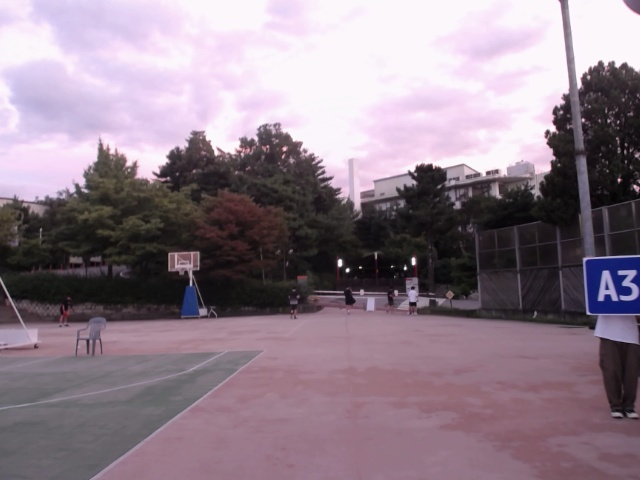delivery_a3: (581, 256, 639, 315)
